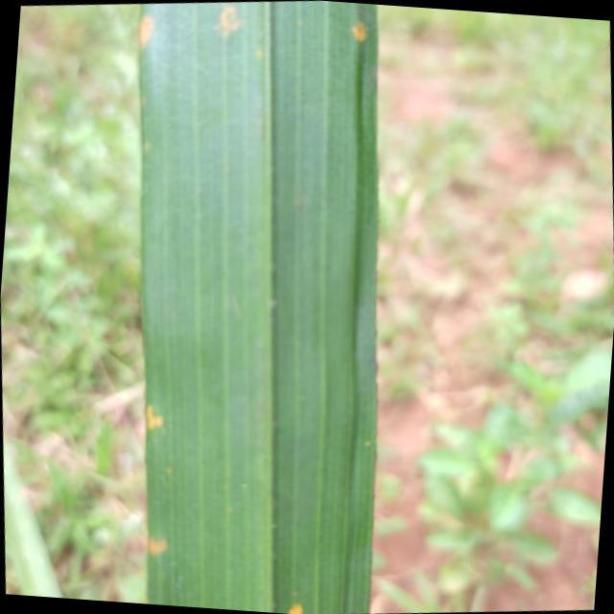Kalium: (136, 0, 380, 614)
